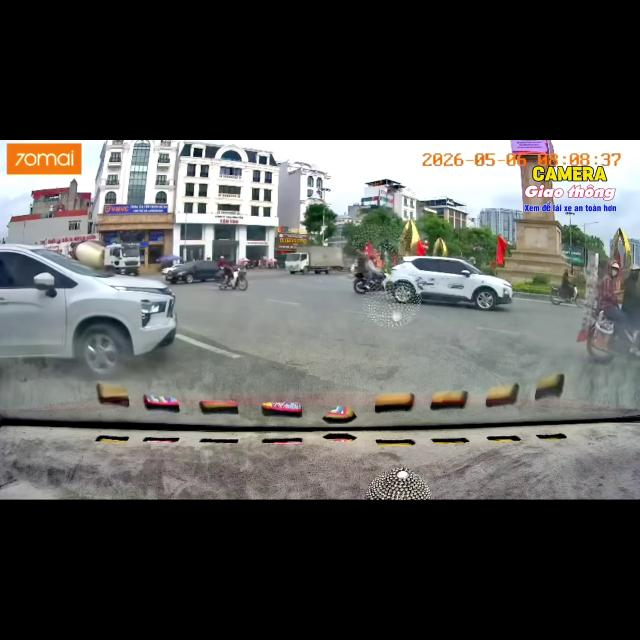car: (0, 245, 177, 375), (385, 256, 512, 310), (165, 260, 221, 284), (162, 264, 180, 276)
motorcycle: (586, 311, 637, 363), (353, 273, 390, 294), (550, 285, 579, 305), (219, 270, 247, 290)
truck: (44, 241, 140, 275), (285, 246, 343, 274)
